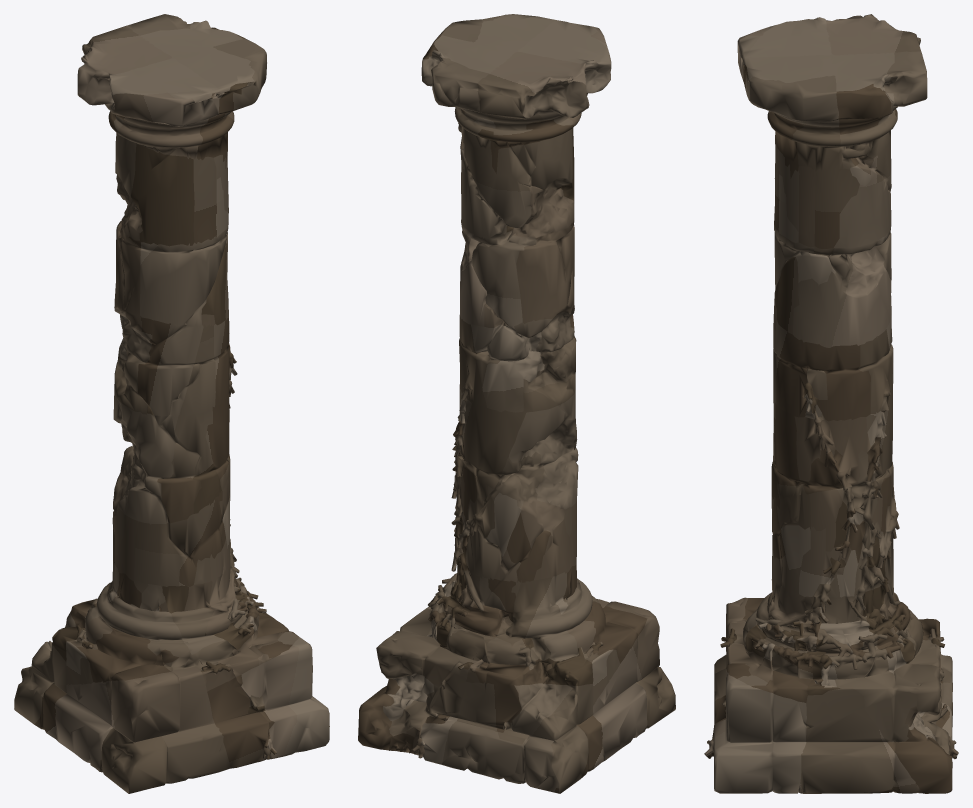
The model's file is Dungeon_Pillar_shadow.glb.
3 renders of one model, left to right at view 1: azimuth 30°, elevation 25°; view 2: azimuth 150°, elevation 25°; view 3: azimuth 270°, elevation 25°, orthographic. The views are drawn at different scales.
Visible parts, largest first — view 1: YVO3D.obj; view 2: YVO3D.obj; view 3: YVO3D.obj.
Boxes of the visible parts, left/top/right/bottom form: YVO3D.obj: left=14, top=14, right=329, bottom=793; YVO3D.obj: left=358, top=14, right=675, bottom=793; YVO3D.obj: left=704, top=14, right=958, bottom=793.
Bounding box in the file's own units: 0.3055 × 0.9797 × 0.3245.
1 material, 1 textured.
